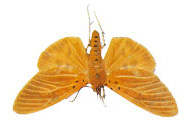Agape chloropyga: (8, 1, 178, 116)
moth: (10, 2, 180, 118)
